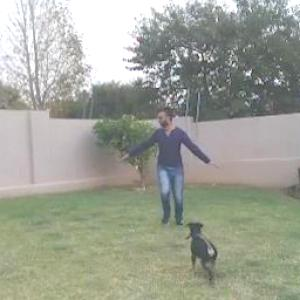land: (117, 99, 240, 235)
